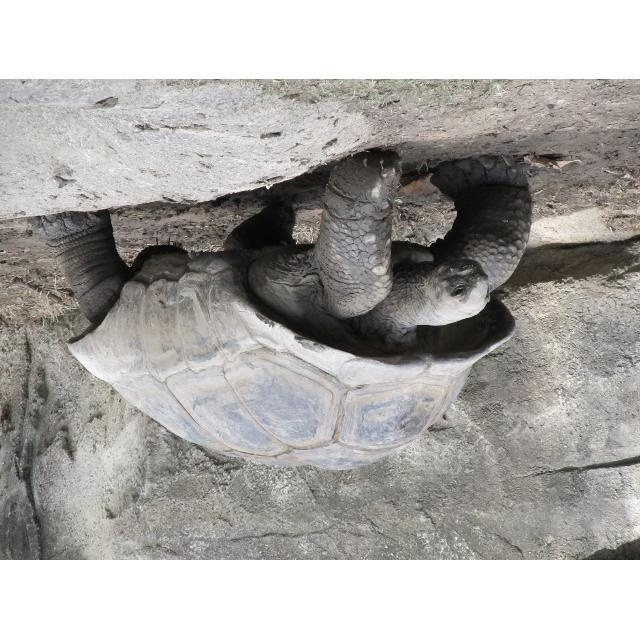turtle: (42, 149, 536, 471)
